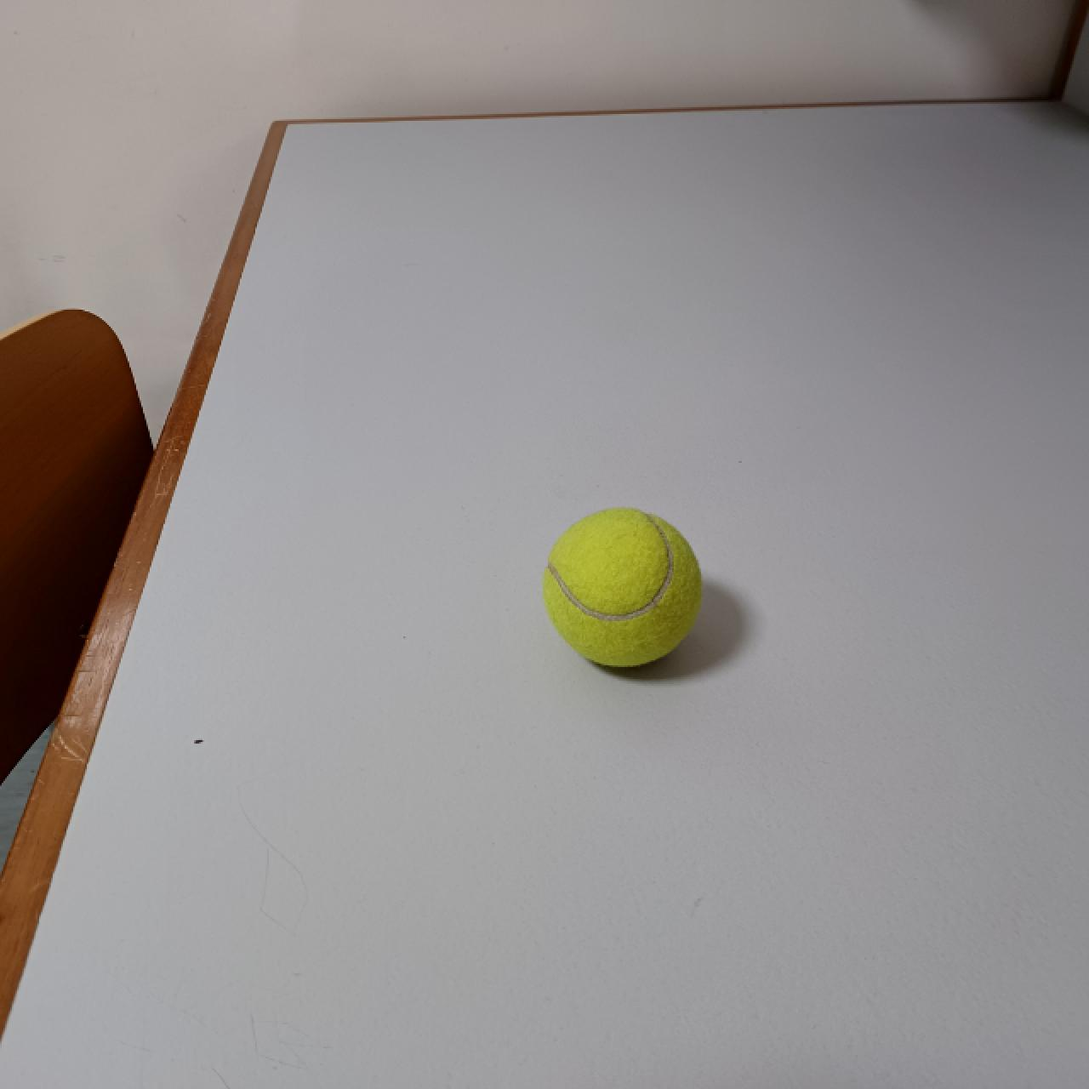tennis-ball: (544, 506, 704, 670)
